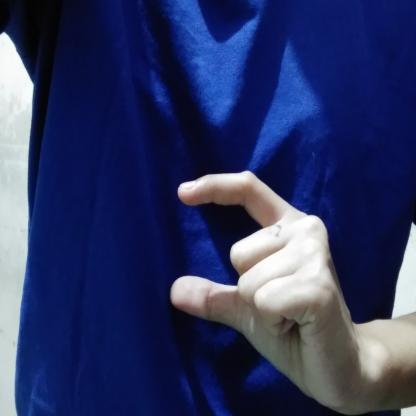small: (171, 177, 364, 414)
